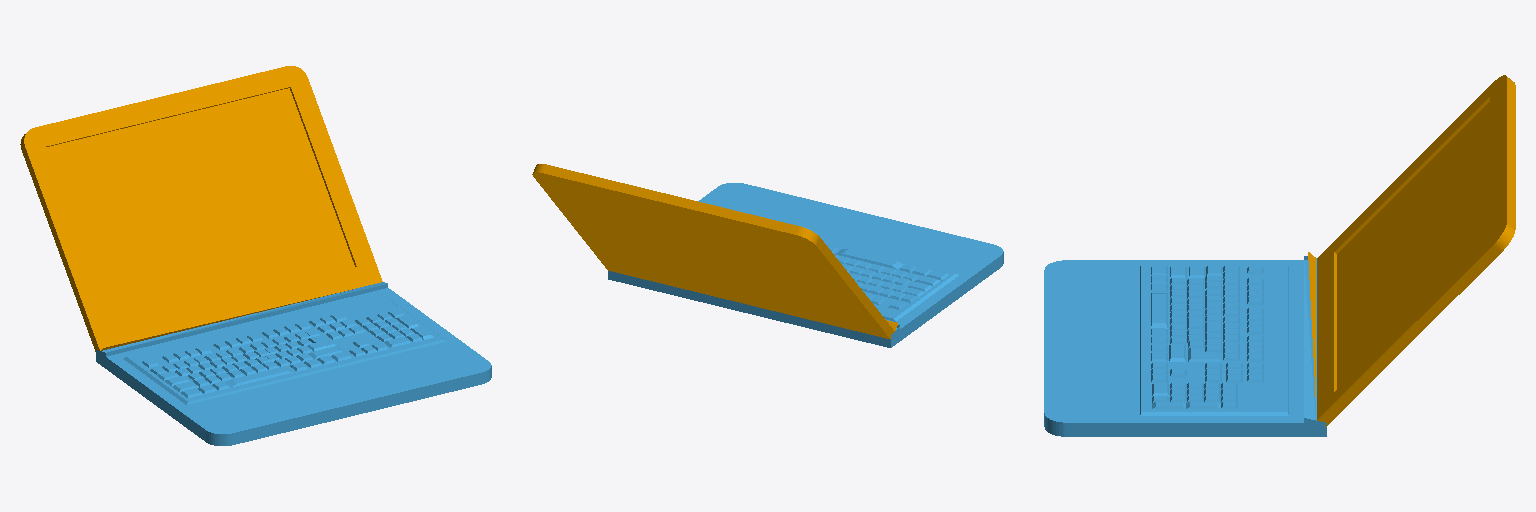
robot.urdf — 9996:
<robot name="9996" version="1.0">
  <link name="link_0">
    <visual name="link_0___1">
      <origin rpy="0.0 0.0 0.0" xyz="-0.5328969218391331 -0.14447633471213955 -0.22069949215576265" />
      <geometry>
        <mesh filename="shape/visual/link_0_m1_vm.obj" />
      </geometry>
    </visual>
    <collision>
      <origin rpy="0.0 0.0 0.0" xyz="-0.5328969218391331 -0.14447633471213955 -0.22069949215576265" />
      <geometry>
        <mesh filename="shape/collision/link_0_cm.obj" />
      </geometry>
    </collision>
  </link>
  <link name="base_link">
    <visual name="link_1___1">
      <origin rpy="0.0 0.0 0.0" xyz="0.0 -0.0 0.0" />
      <geometry>
        <mesh filename="shape/visual/link_1_m1_vm.obj" />
      </geometry>
    </visual>
    <collision>
      <origin rpy="0.0 0.0 0.0" xyz="0.0 -0.0 0.0" />
      <geometry>
        <mesh filename="shape/collision/link_1_cm.obj" />
      </geometry>
    </collision>
  </link>
  <joint name="joint_0" type="revolute">
    <origin rpy="0.0 0.0 0.0" xyz="0.5328969218391331 0.18027012176360718 -0.19257299999999988" />
    <axis xyz="-1 -0.0 0.0" />
    <parent link="base_link" />
    <child link="link_0" />
    <limit lower="1.54504353881396583" upper="3.1028323000830067" />
  </joint>
</robot>

--- What the picture shows (computed from the rendered views, not written in the file) ---
Views: 3 orthographic renders of the robot side by side, from view 1: azimuth 30°, elevation 25°; view 2: azimuth 150°, elevation 25°; view 3: azimuth 270°, elevation 25°.
Robot: 9996 — 2 links, 1 joints (1 revolute); root link base_link; default pose: all joints at 0 but 1 set to mid-range because 0 is outside their limits (joint_0 = 2.32).
Links seen in each view (by area): view 1: link_0, base_link; view 2: link_0, base_link; view 3: base_link, link_0.
Boxes of the visible links, x1,y1,x2,y2 form: link_0: [20, 66, 382, 351]; base_link: [96, 282, 491, 445]; link_0: [532, 164, 897, 339]; base_link: [608, 183, 1003, 347]; base_link: [1044, 256, 1326, 436]; link_0: [1308, 75, 1515, 427].
Bounding box of the posed robot: 1.27 × 1.55 × 0.7467 m (x, y, z).
Meshes: 2 distinct files referenced, 2 mesh visuals loaded (2 OBJ).